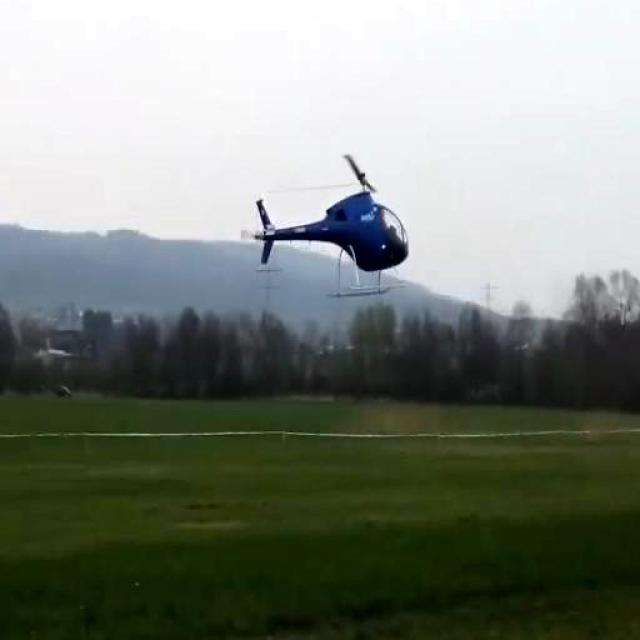drone: (250, 152, 410, 300)
